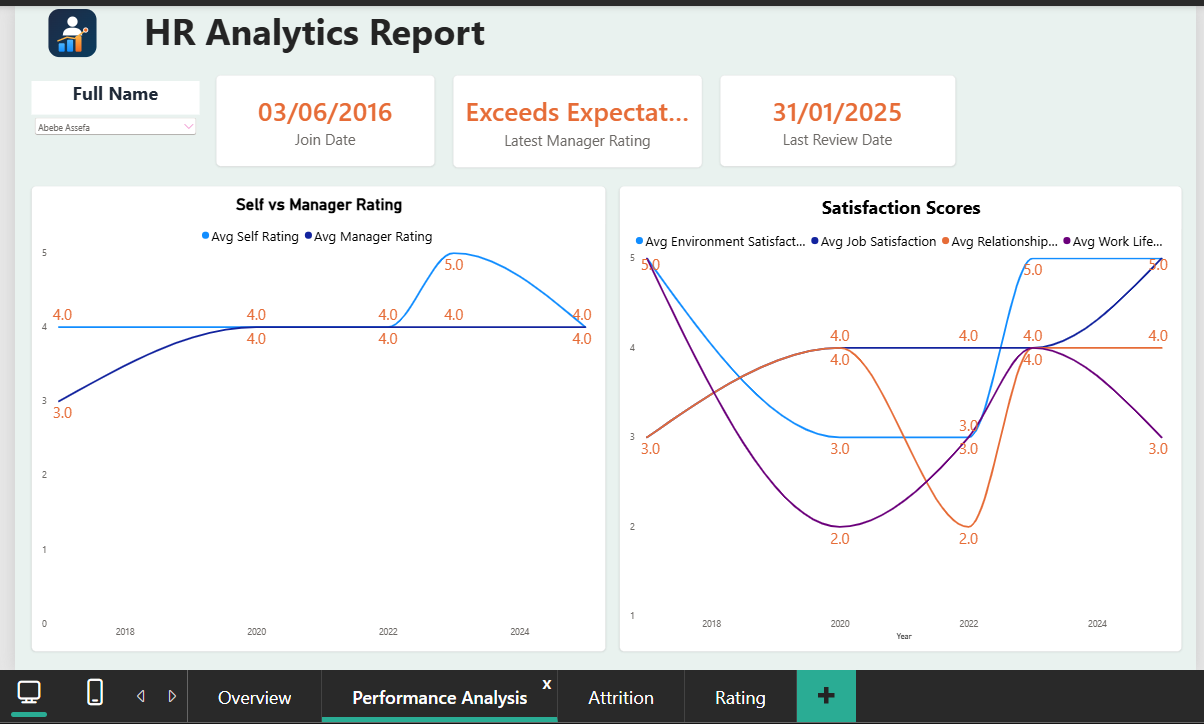

The page's visual inventory and layout, read from the dashboard file:
{"tool":"powerbi","page":{"name":"Performance Analysis","canvas":[1920,1080],"ordinal":1},"visuals":[{"type":"slicer","title":"Full Name","fields":{"Values":["Employee.Full Name"]},"box":[25.8,121.8,273.3,139.1],"z":0},{"type":"card","fields":{"Values":["Measure_List.Join Date"]},"box":[326.9,112.2,356.2,148.8],"z":1000},{"type":"card","fields":{"Values":["Measure_List.Latest_Manager_Review"]},"box":[712.2,111.2,405.4,150.8],"z":2000},{"type":"textbox","box":[0,22,427,48.8],"z":3000},{"type":"textbox","box":[209.6,0,628.9,88.1],"z":4000,"group":"g1"},{"type":"lineChart","title":"Satisfaction Scores ","fields":{"Category":["PerformanceRating.ReviewDate.Variation.Date Hierarchy.Year"],"Y":["Measure_List.Avg Environment Satisfaction","Measure_List.Avg Job Satisfaction","Measure_List.Avg Relationship Satisfaction","Measure_List.Avg Work Life Balance"]},"box":[982.6,293.2,914.9,757],"z":4000},{"type":"group","id":"g1","title":"Group 1","box":[27.3,0,811.1,88.1],"z":5000},{"type":"lineChart","title":"Self vs Manager Rating ","fields":{"Category":["PerformanceRating.ReviewDate.Variation.Date Hierarchy.Year"],"Y":["Measure_List.Avg Self Rating","Measure_List.Avg Manager Rating"]},"box":[25.8,293.2,934.2,757],"z":6000},{"type":"card","fields":{"Values":["Measure_List.Last Review Date"]},"box":[1146.7,112.2,383.1,148.8],"z":7000},{"type":"image","box":[27.3,0,133.7,88.1],"z":11001,"group":"g1"}]}

Visuals, with their boxes on the page's 1920x1080 design canvas (x1, y1, x2, y2). These are canvas units, not pixel positions in the 1204x724 screenshot, which may show the page scaled, cropped or inside an application window:
"Full Name" slicer: [left=26, top=122, right=299, bottom=261]
card - Measure_List.Join Date: [left=327, top=112, right=683, bottom=261]
card - Measure_List.Latest_Manager_Review: [left=712, top=111, right=1118, bottom=262]
textbox: [left=0, top=22, right=427, bottom=71]
textbox: [left=210, top=0, right=838, bottom=88]
"Satisfaction Scores " lineChart: [left=983, top=293, right=1898, bottom=1050]
"Group 1" group: [left=27, top=0, right=838, bottom=88]
"Self vs Manager Rating " lineChart: [left=26, top=293, right=960, bottom=1050]
card - Measure_List.Last Review Date: [left=1147, top=112, right=1530, bottom=261]
image: [left=27, top=0, right=161, bottom=88]
